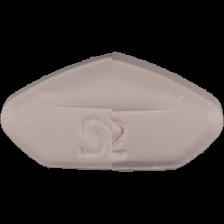54868-5249: (0, 0, 224, 224)
